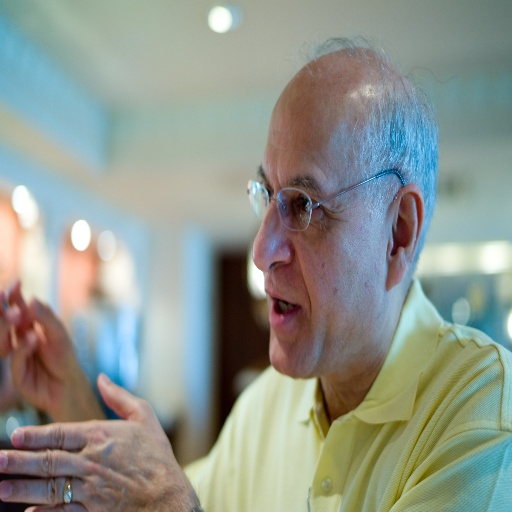hand: (0, 371, 199, 511), (2, 295, 83, 429)
